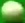white: (0, 0, 25, 23)
